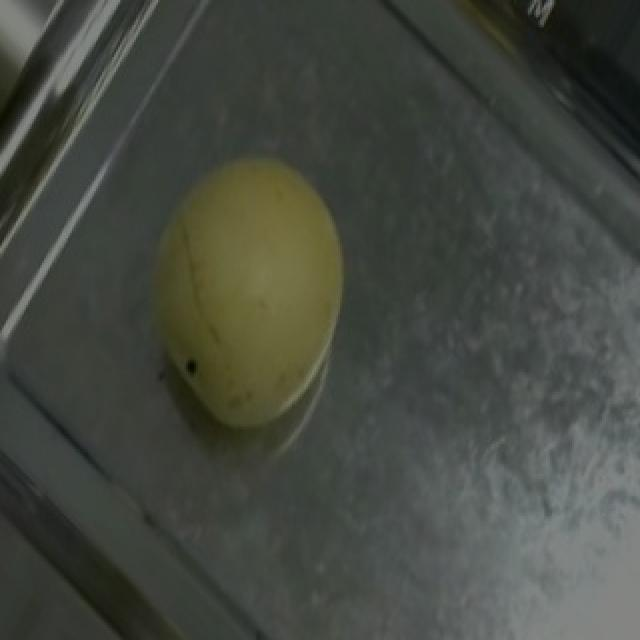Fruit: (98, 114, 396, 471)
